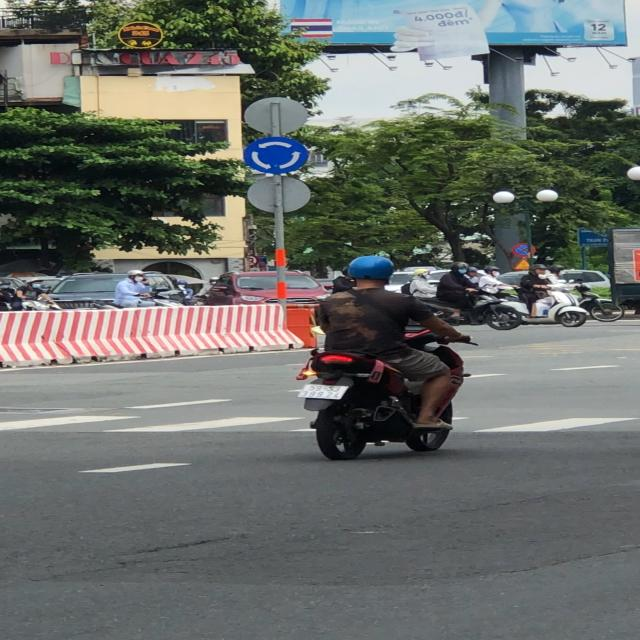Bien bao noi giao nhau chay theo vong xuyen: (241, 134, 315, 176)
